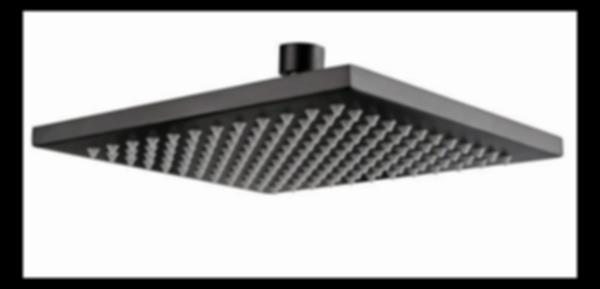Ducha: (27, 40, 576, 220)
